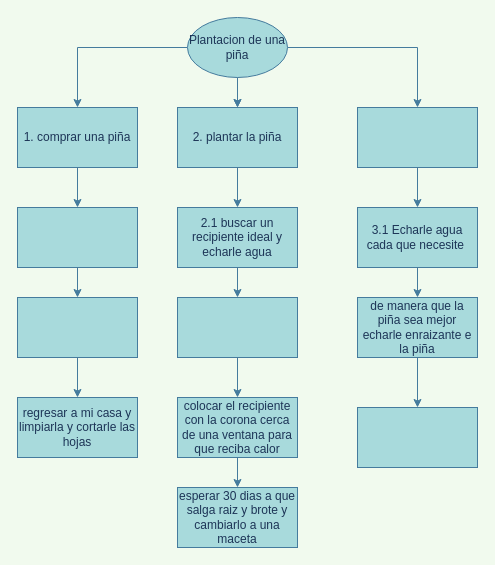
The diagram is 495 pixels wide and 565 high, and some of its shapes have lost their labels. The centre of each missing label's shape, as x and y in pixels:
"1.1 dirigirse al supermercado de conveniencia" goes at point (77, 237).
"3. cuidado de la piña" goes at point (417, 137).
"cada vez que se consuma repetir desde el paso 3.1" goes at point (417, 437).
"comprar una piña" goes at point (77, 327).
"cortar la corona y colocarla en el recipiente" goes at point (237, 327).
